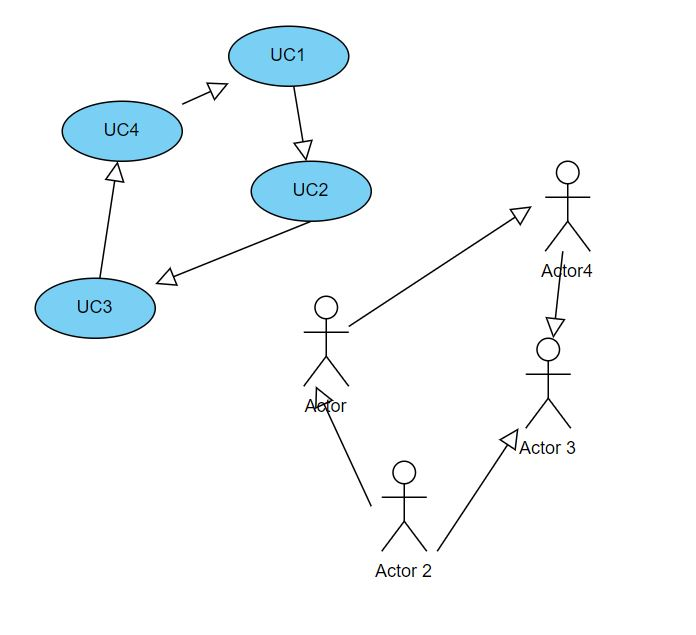actor: (543, 159, 591, 251), (304, 295, 350, 388), (383, 461, 428, 553)
generalization: (349, 204, 531, 328), (156, 219, 310, 286), (435, 428, 518, 552), (316, 387, 371, 506), (97, 161, 124, 278), (548, 250, 566, 342), (182, 81, 227, 105)
text: (375, 556, 435, 583), (99, 117, 145, 143), (287, 175, 330, 202), (542, 260, 593, 281), (519, 440, 576, 455), (71, 296, 116, 314), (303, 398, 347, 416), (261, 45, 307, 62)
use_case: (34, 277, 157, 339), (61, 100, 182, 162), (228, 26, 350, 86), (251, 160, 370, 220)
